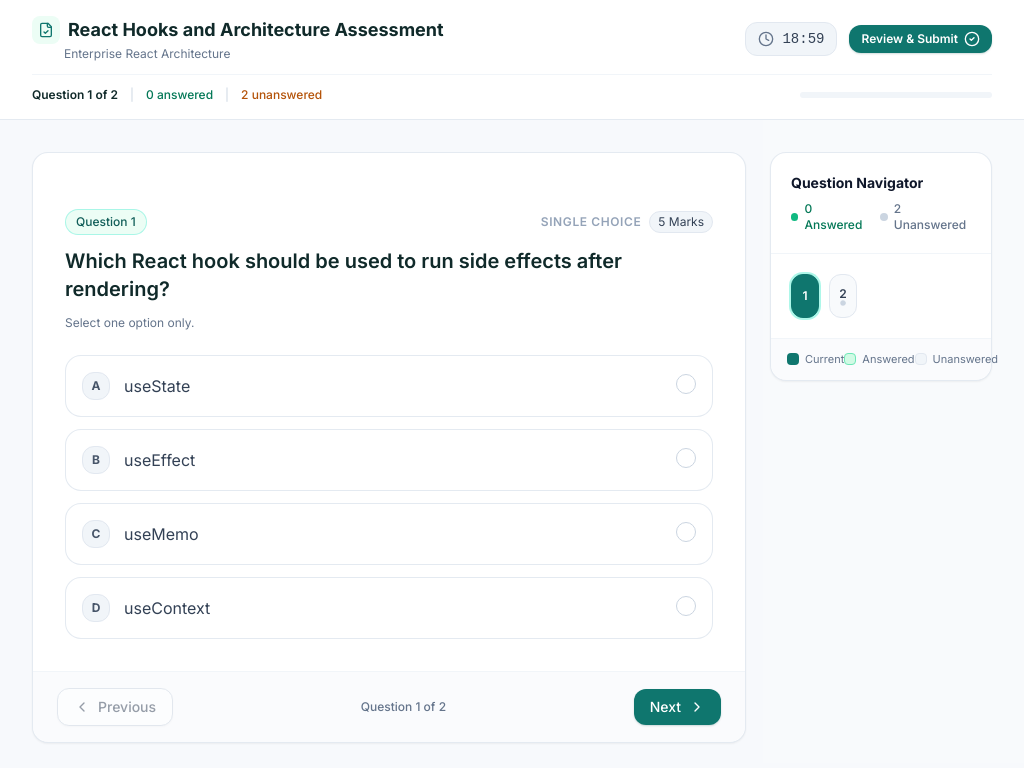
Test case: AssessmentPlayerPage › renders multiple-choice question and selects multiple answers
This screenshot has width=1024, height=768.
Note: Go to Q2
Click the button "Next": (677, 707) [634,689,721,725]
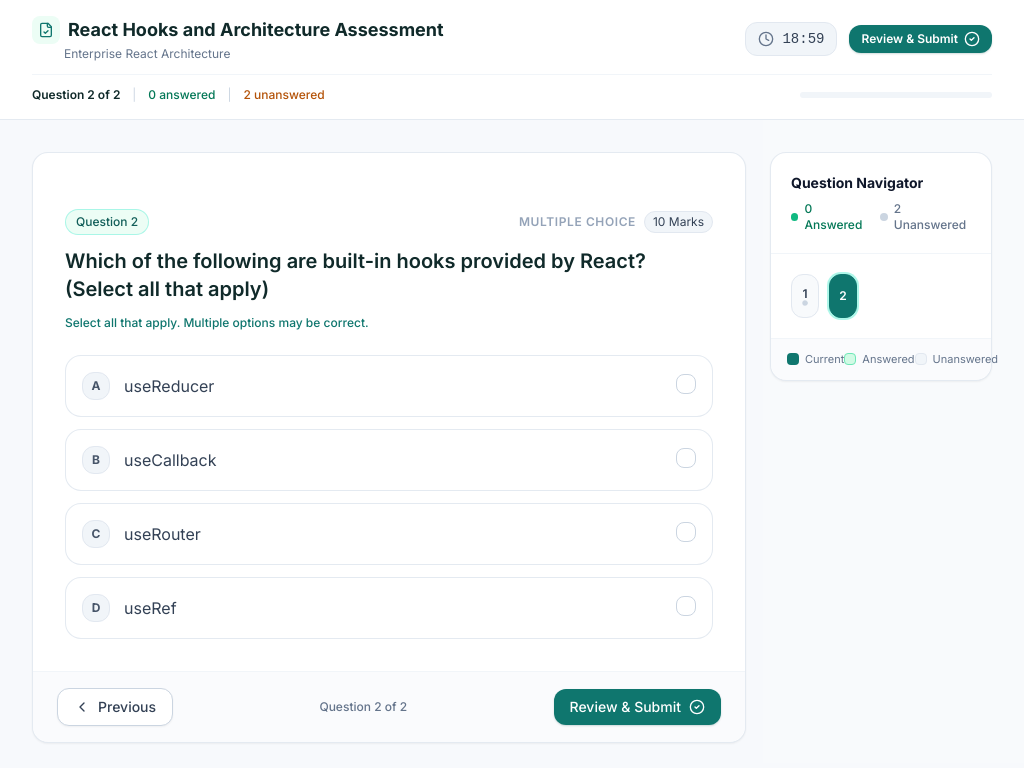
Now the text "Multiple Choice" is shown, box [519,214,636,230]
Note: Select options A (useReducer) and B (useCallback)
Click the text "useReducer": (169, 386) [124,376,214,396]
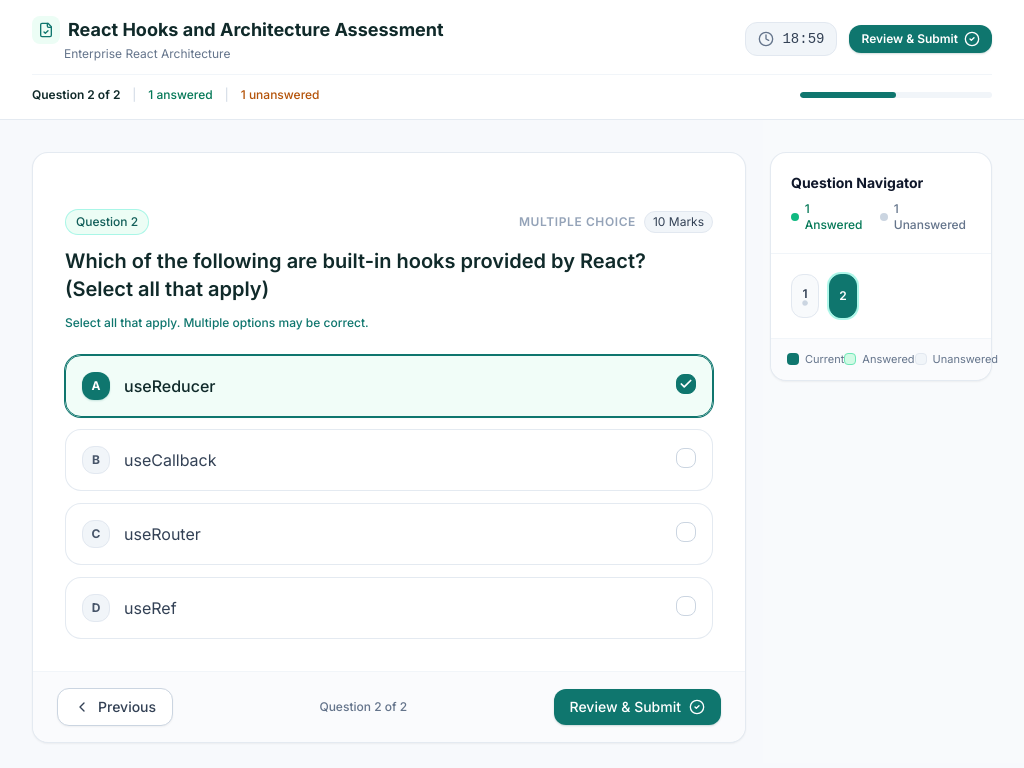
Click the text "useCallback": (170, 460) [124,450,216,470]
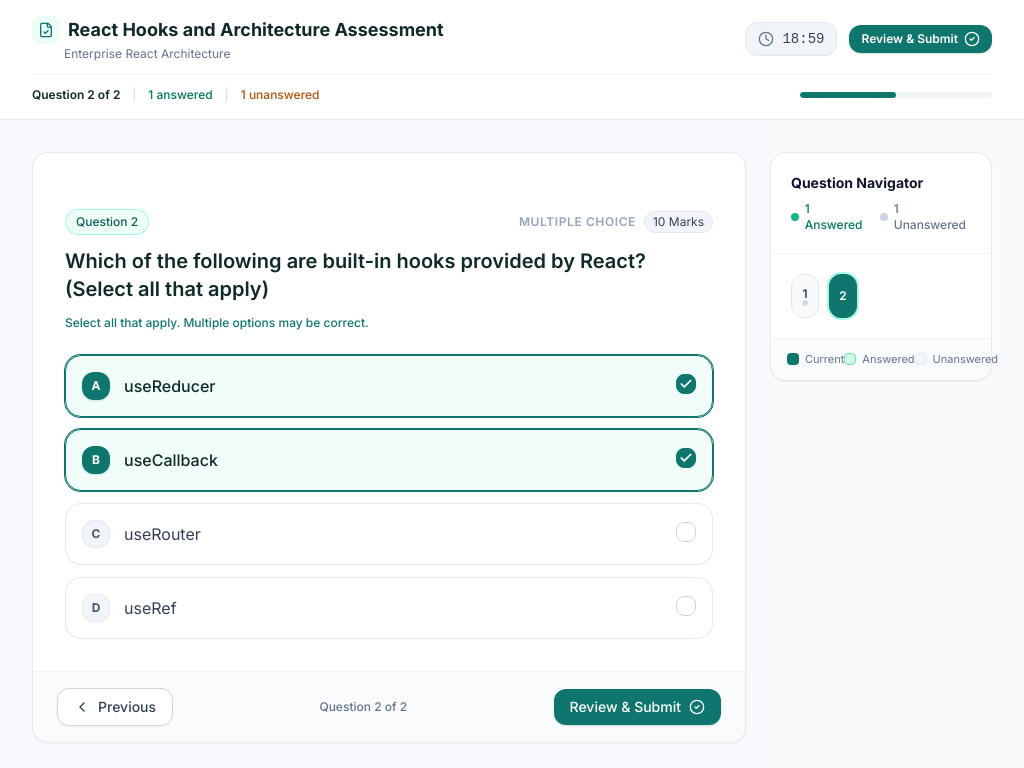
Now the checkbox labelled "A useReducer" is checked, box [65,355,713,417]
Now the checkbox labelled "C useRouter" is not checked, box [65,503,713,565]
Now the checkbox labelled "B useCallback" is checked, box [65,429,713,491]
